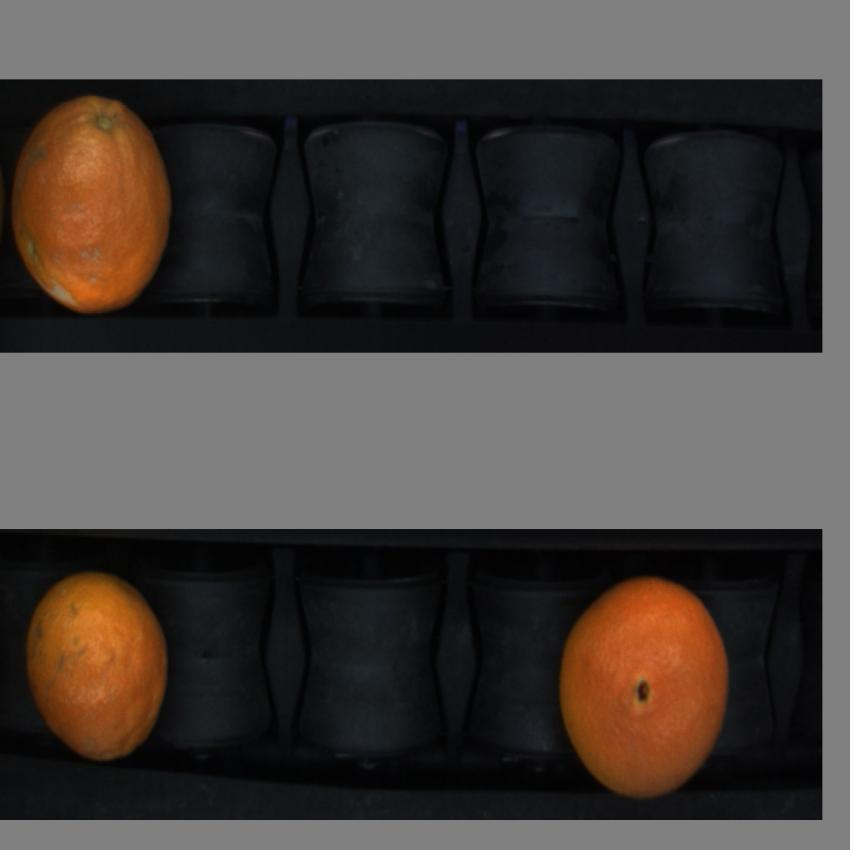Buen estado: (555, 580, 736, 802), (27, 569, 172, 762)
Mal estado: (9, 92, 186, 316)
